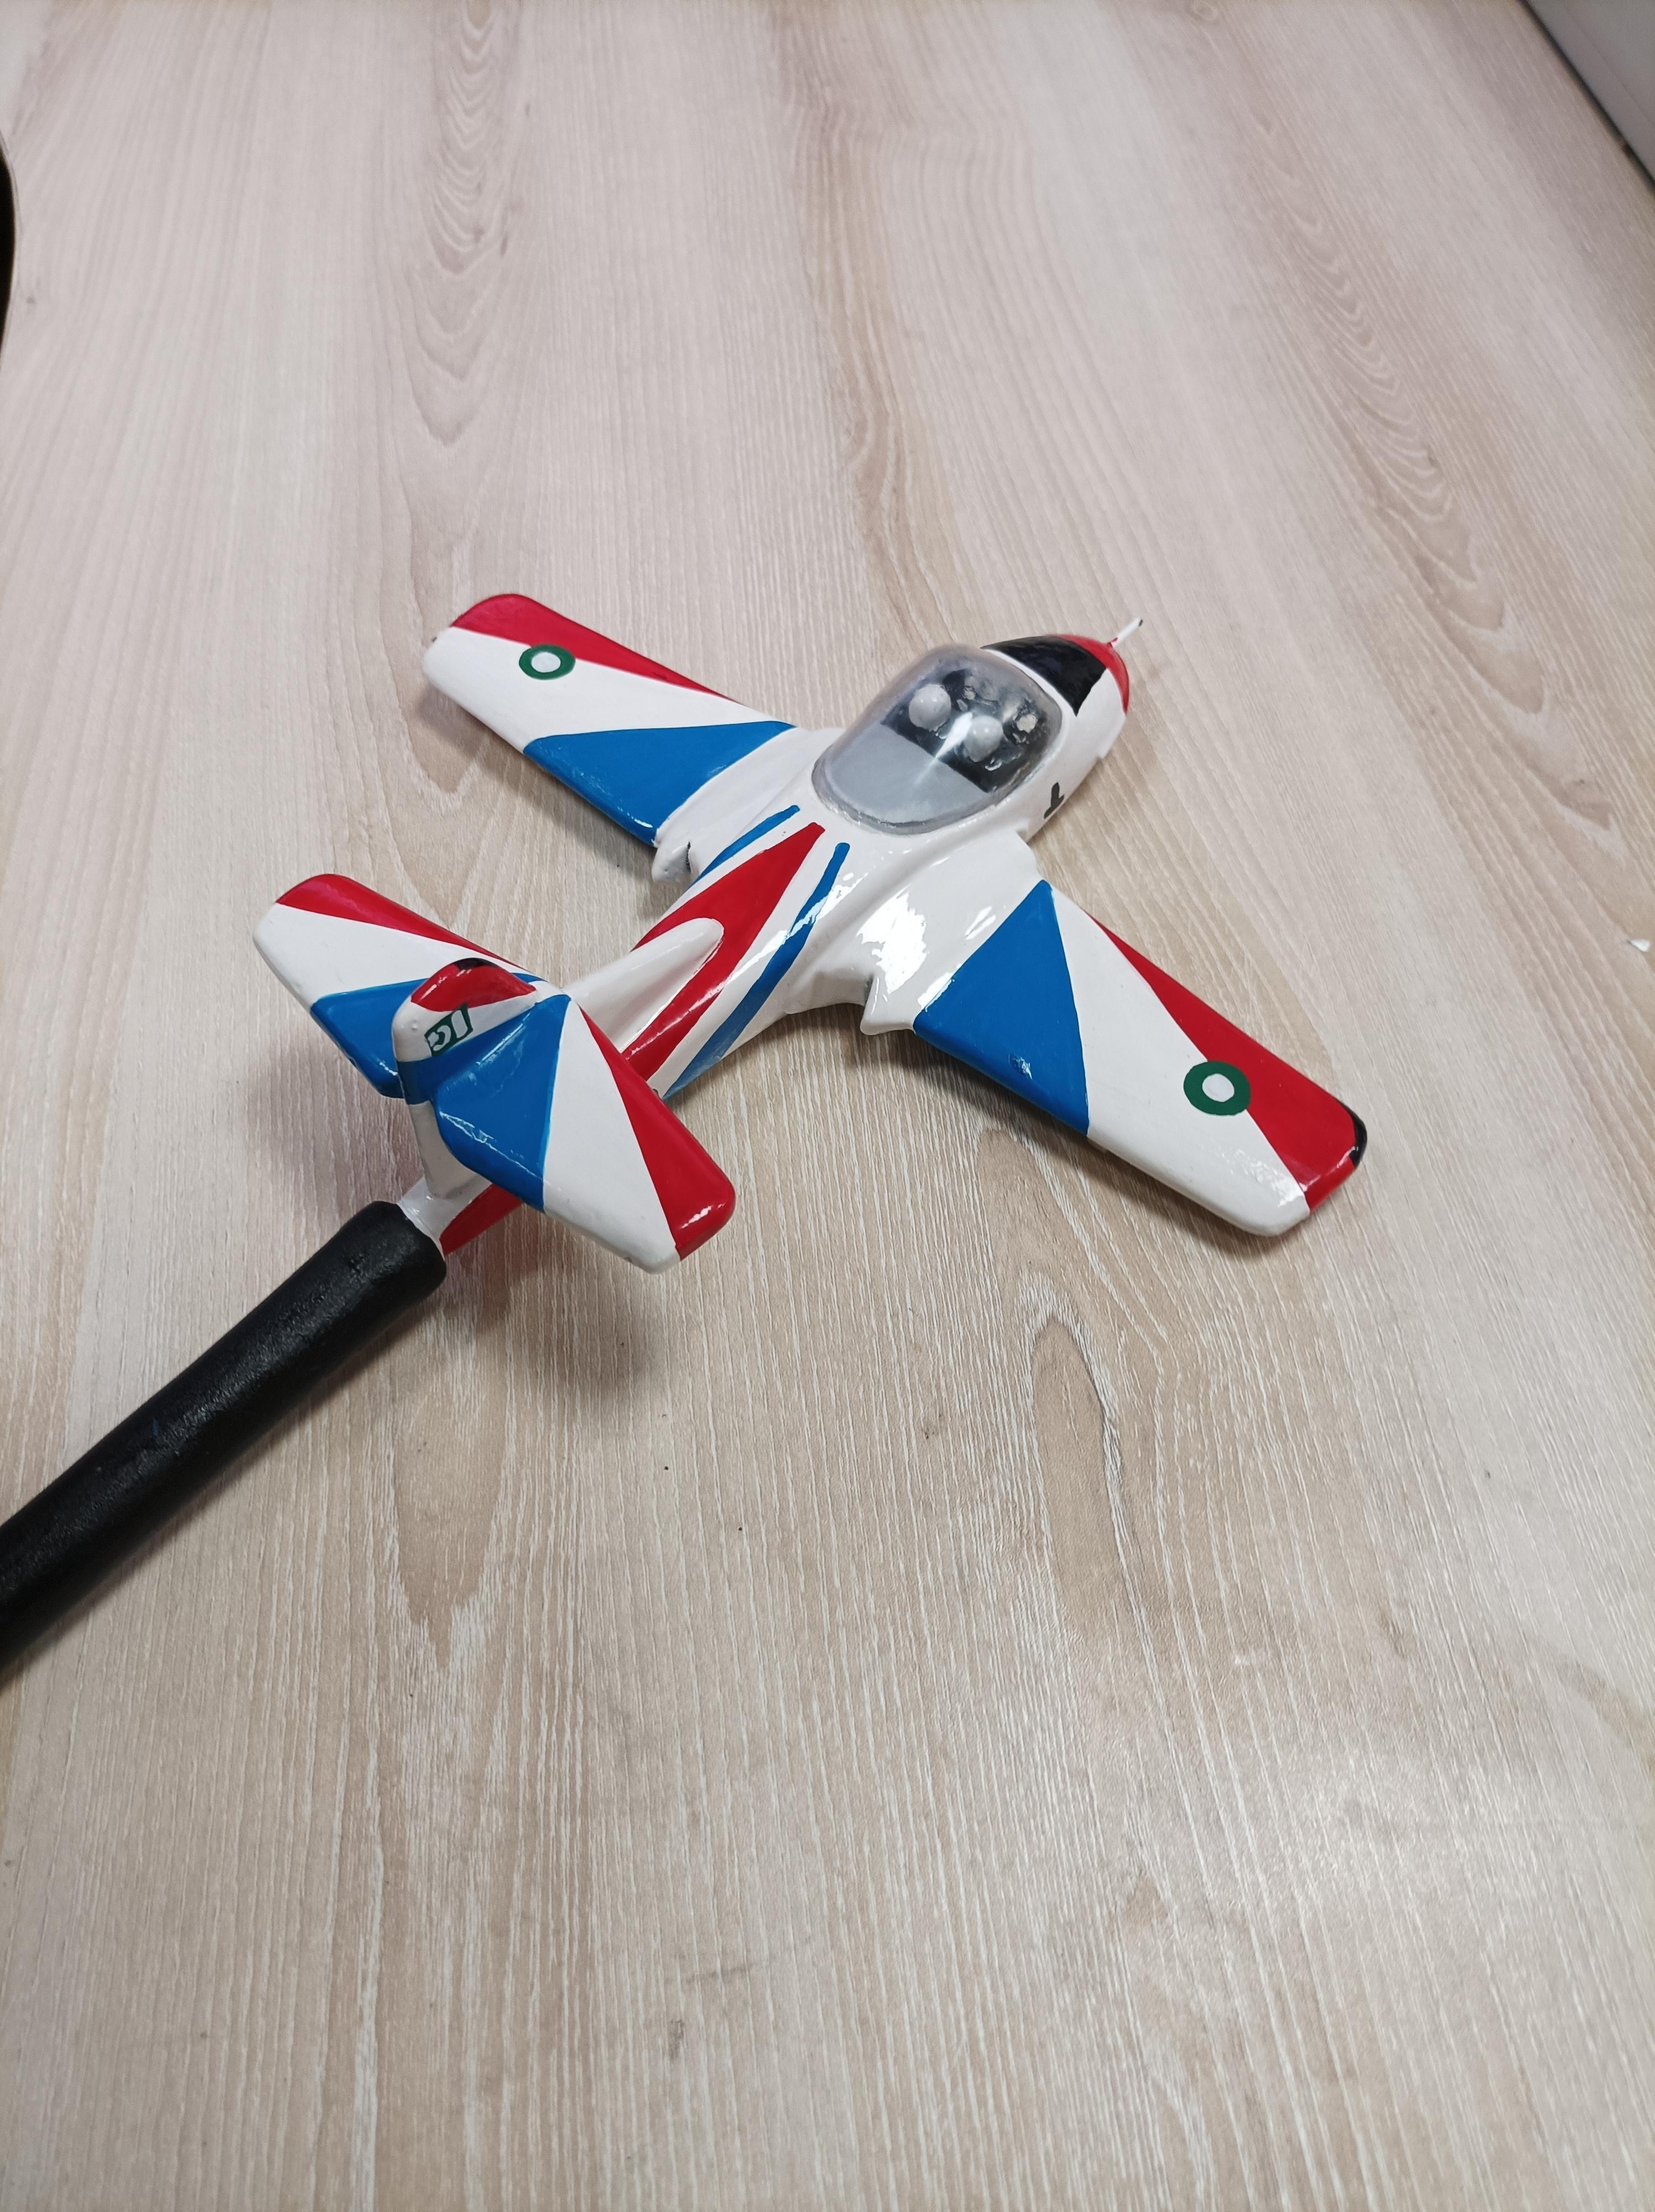Airplane: (243, 518, 1389, 1282)
